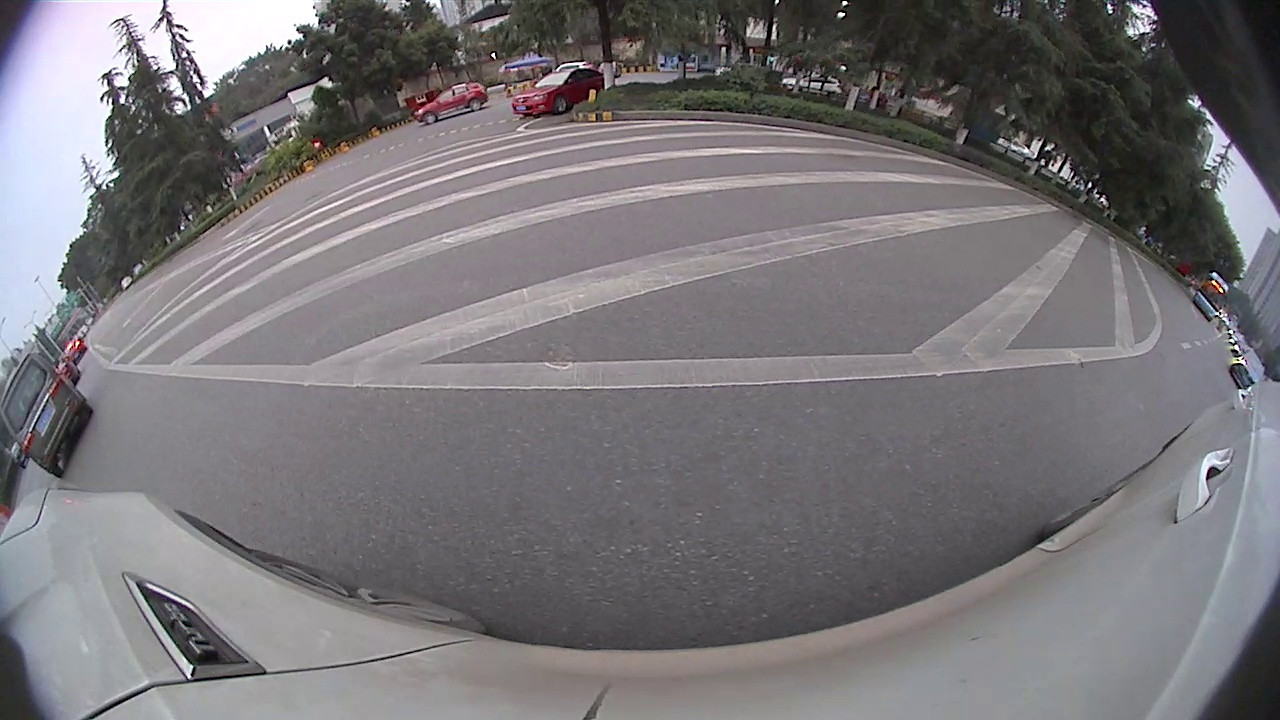car: (332, 42, 671, 185), (17, 261, 139, 391), (895, 115, 1019, 219), (264, 92, 364, 174), (177, 98, 277, 171), (1167, 357, 1239, 453), (1082, 245, 1157, 328), (77, 195, 159, 265), (147, 167, 220, 223)
front: (566, 114, 629, 173), (992, 195, 1013, 220)
rear: (366, 135, 410, 185), (937, 168, 961, 196), (279, 149, 299, 174)
